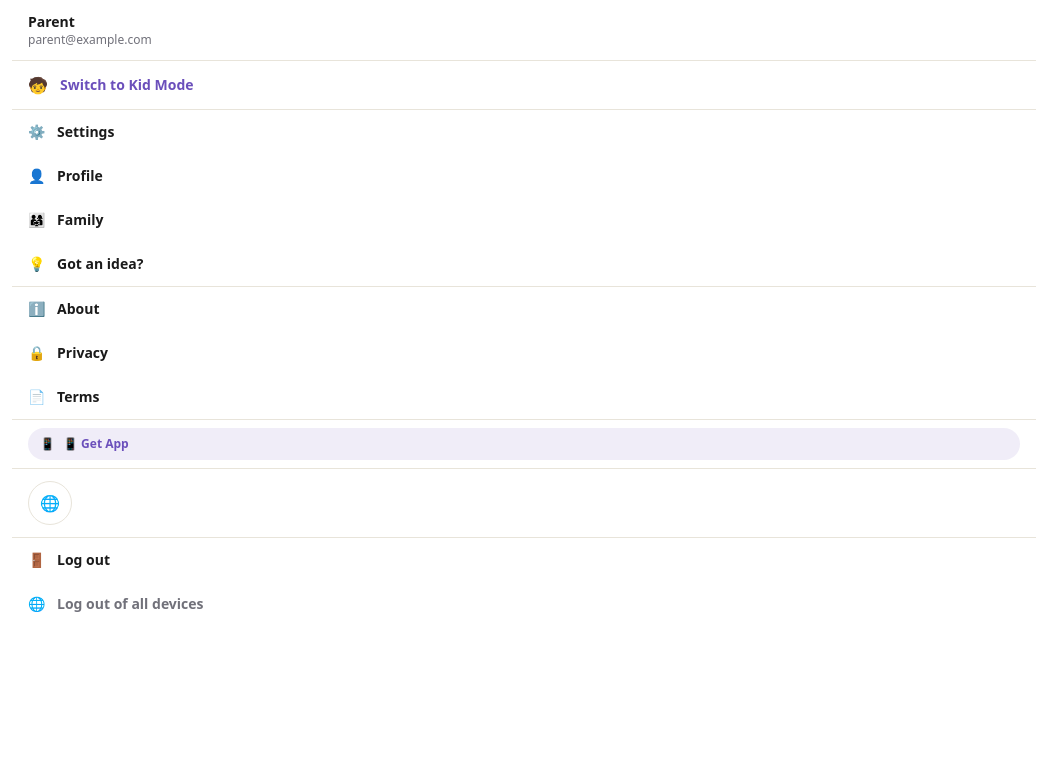
Scenario: UserMenuItems › language toggle exposes EN and ES options when opened
What coordinates should you click on to do the following:
click the button named "change language"
I would click on:
 (50, 503)
Its box is 28,481 -> 72,525.
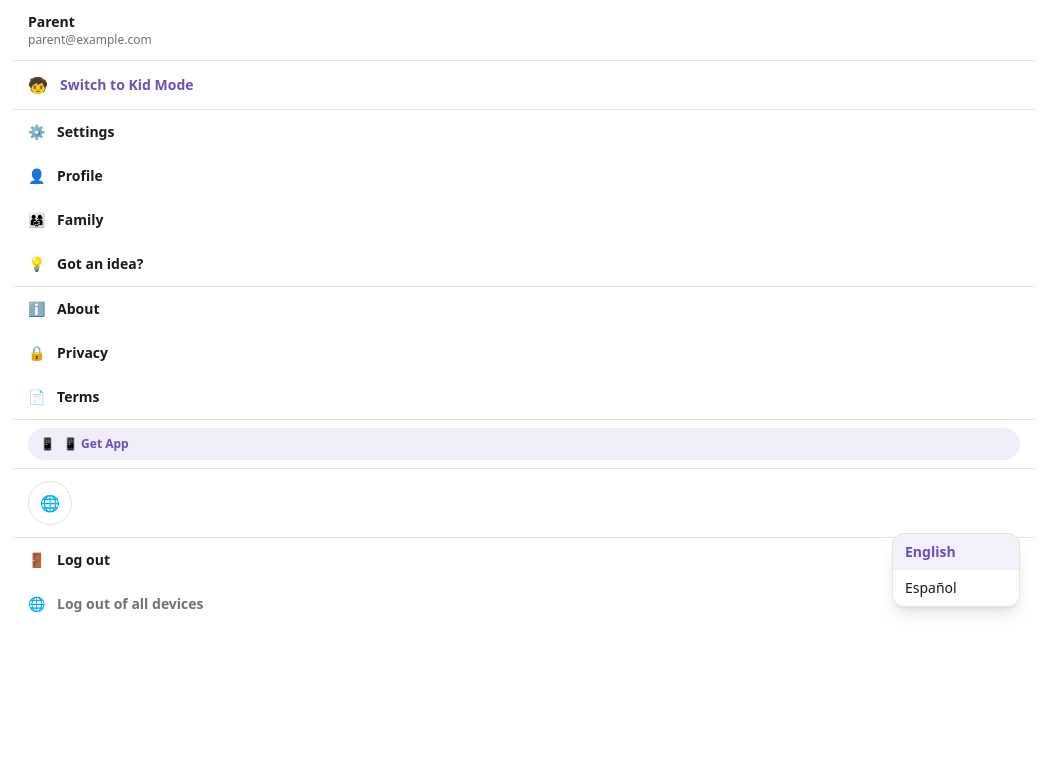
Check: the menu item "English" is shown, box 893,534 -> 1019,570
Check: the menu item "Español" is shown, box 905,578 -> 957,597
